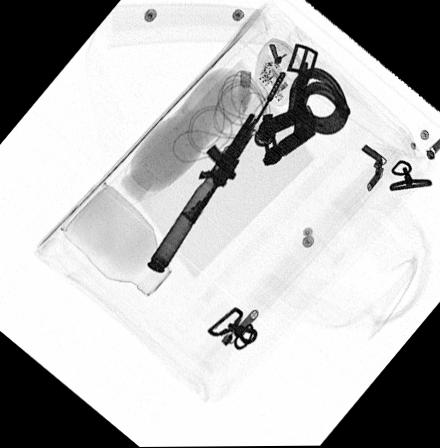Bullet: (145, 139, 238, 276)
Gun: (180, 72, 285, 227)
HandCuffs: (250, 66, 352, 171)
